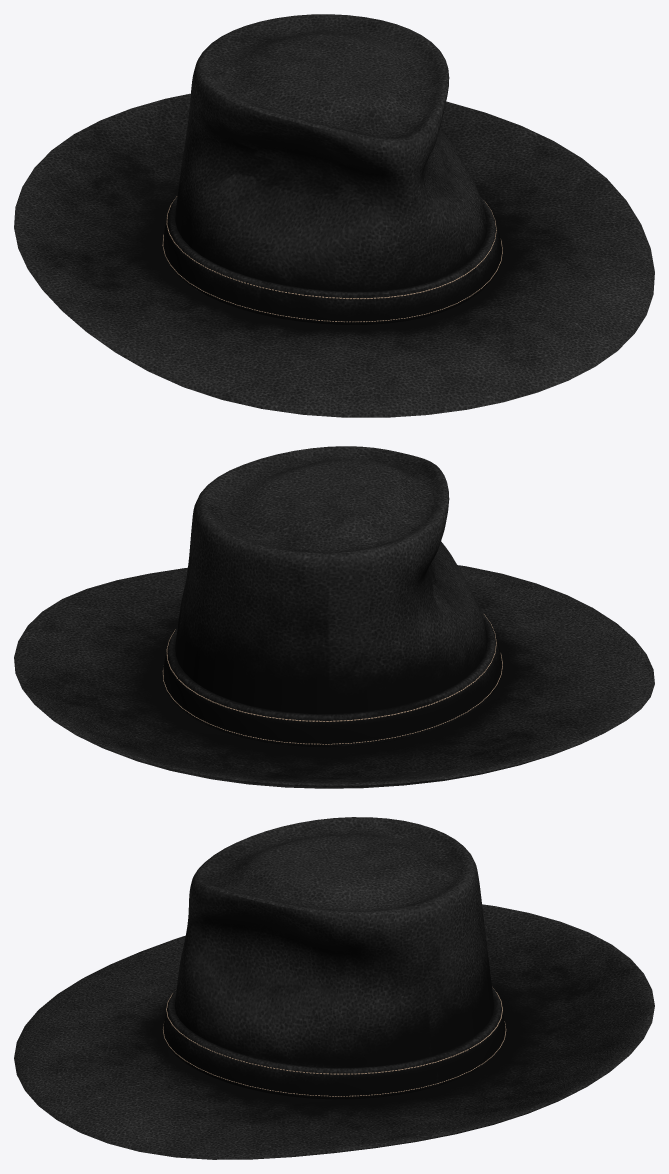
The model's file is hat.glb.
3 views of the same model, one above another, from view 1: azimuth 30°, elevation 25°; view 2: azimuth 150°, elevation 25°; view 3: azimuth 270°, elevation 25° (orthographic). The views are drawn at different scales.
Parts seen in each view (by area): view 1: Cube.002; view 2: Cube.002; view 3: Cube.002.
Boxes of the visible parts, <box> form: Cube.002: <box>14,14,654,417</box>; Cube.002: <box>14,446,654,788</box>; Cube.002: <box>14,817,654,1159</box>.
Bounding box in the file's own units: 3.48 × 1.28 × 3.75.
2 materials, 2 textured.
